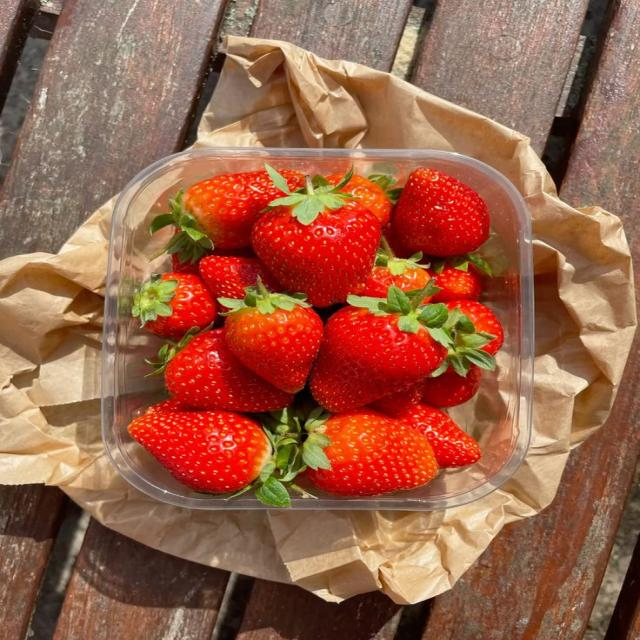strawberry: (253, 168, 380, 307), (311, 287, 447, 412), (151, 171, 282, 262), (129, 411, 271, 493), (220, 280, 323, 393), (307, 409, 437, 495), (165, 329, 293, 412), (392, 168, 489, 256), (132, 273, 217, 340), (398, 404, 480, 467), (360, 237, 432, 297), (200, 256, 282, 299), (446, 301, 503, 354), (341, 175, 392, 227), (421, 365, 480, 407), (431, 261, 481, 302), (369, 385, 421, 417), (384, 226, 415, 258), (145, 398, 201, 413), (202, 247, 255, 259), (172, 254, 199, 275)
